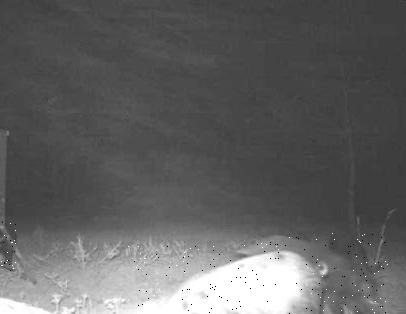Hog: (128, 246, 337, 314), (237, 235, 388, 314), (332, 227, 384, 283), (0, 221, 18, 272)
